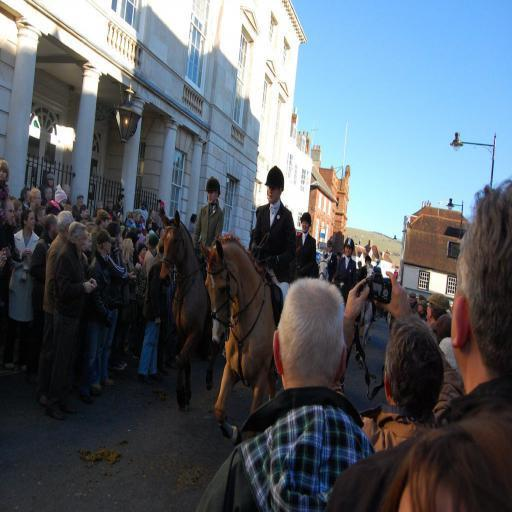horse: (198, 229, 280, 444), (158, 208, 221, 416), (360, 261, 378, 371), (316, 254, 332, 281)
